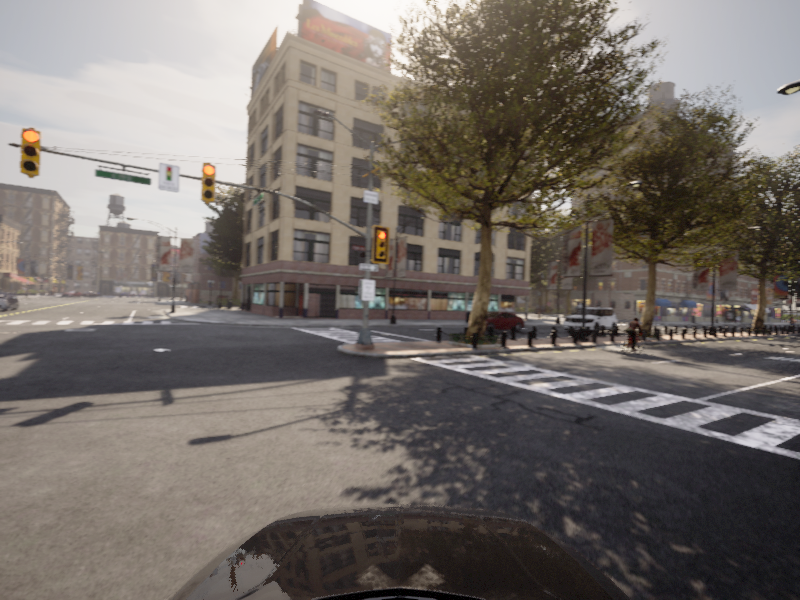vehicle: (560, 305, 620, 335), (464, 310, 529, 332), (615, 317, 650, 356), (1, 290, 22, 311)
